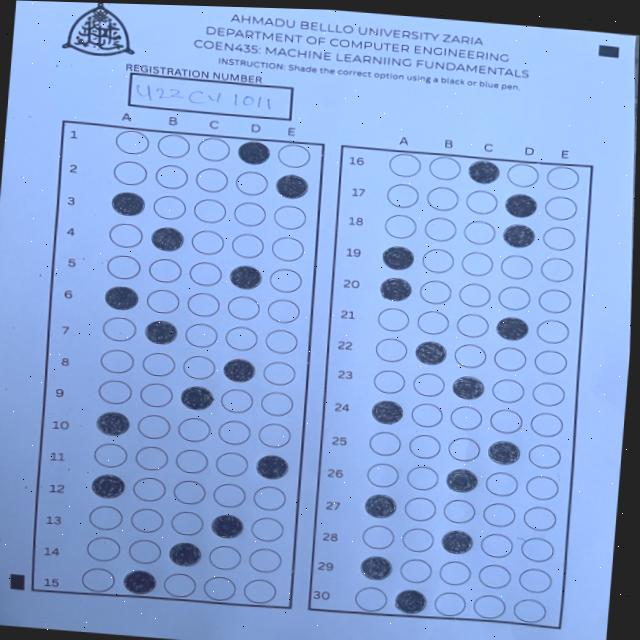bubble: (90, 473, 126, 501), (111, 190, 146, 218), (236, 140, 272, 167), (104, 285, 140, 312), (150, 226, 185, 253), (144, 319, 179, 346), (180, 385, 215, 412), (370, 399, 405, 426), (95, 410, 130, 437), (445, 468, 480, 495), (363, 493, 398, 520), (486, 439, 521, 466), (168, 540, 203, 567), (394, 588, 427, 616), (275, 173, 309, 200), (381, 245, 415, 272), (504, 192, 538, 219), (229, 264, 263, 291), (502, 223, 536, 250), (255, 454, 289, 481), (359, 555, 393, 582), (440, 529, 474, 556), (123, 569, 157, 596), (494, 315, 529, 341), (221, 357, 256, 383), (451, 375, 486, 401), (467, 159, 501, 185), (379, 276, 413, 302), (210, 513, 244, 539), (414, 340, 447, 366)
